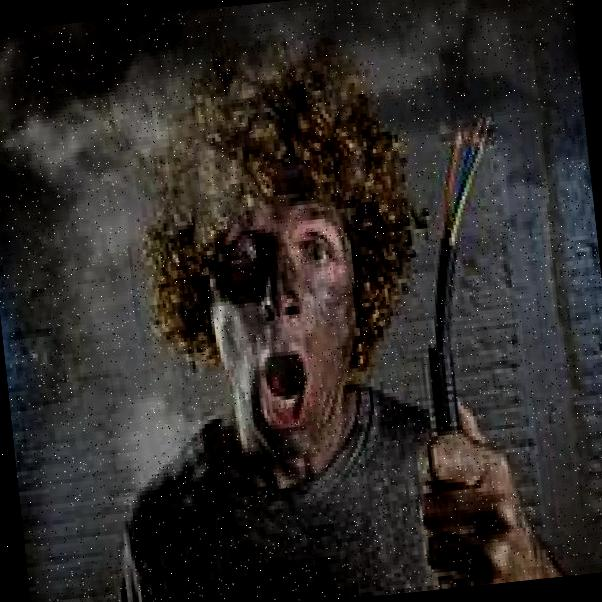smoke: (0, 0, 483, 255)
